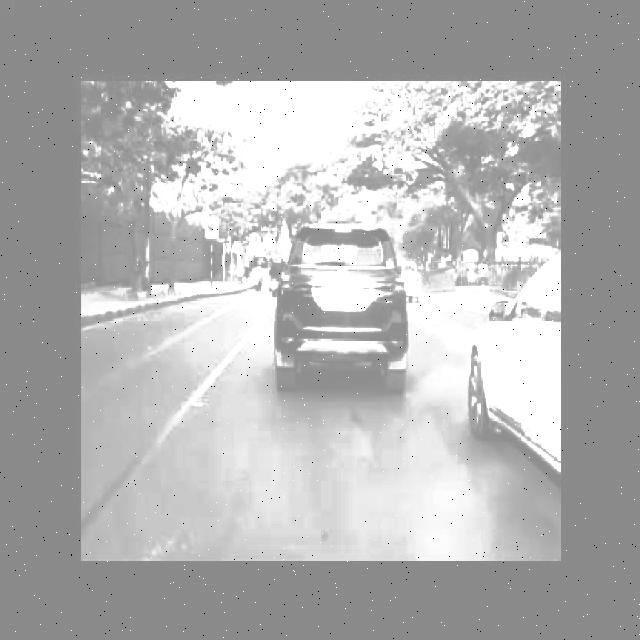Car: (268, 197, 424, 424), (458, 251, 560, 480)
